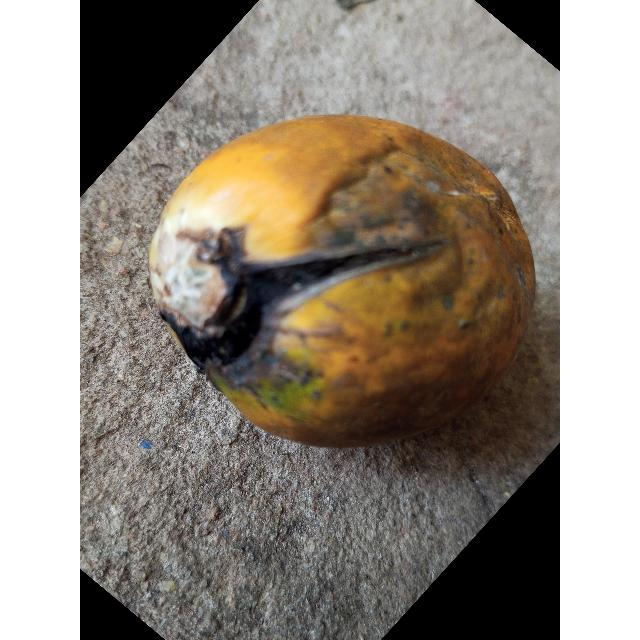damaged: (146, 113, 536, 451)
